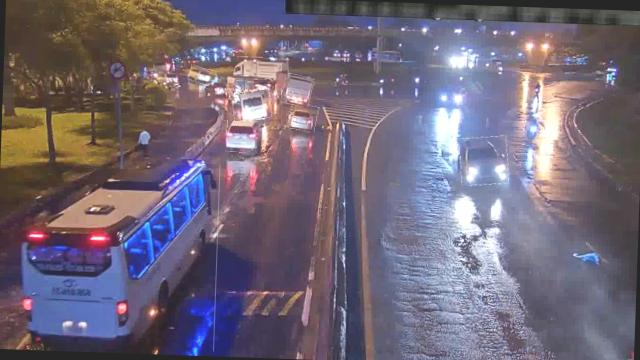Bike: (522, 116, 542, 147)
Bus: (21, 158, 220, 352), (232, 90, 272, 122)
Car: (458, 136, 509, 187), (225, 116, 264, 154), (288, 103, 318, 132), (188, 66, 215, 86), (206, 80, 228, 98)
Truck: (236, 56, 288, 84), (281, 74, 313, 106)
